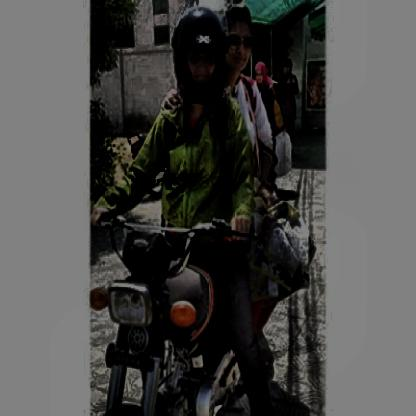not_wear: (221, 8, 253, 79)
wear: (173, 5, 219, 99)
